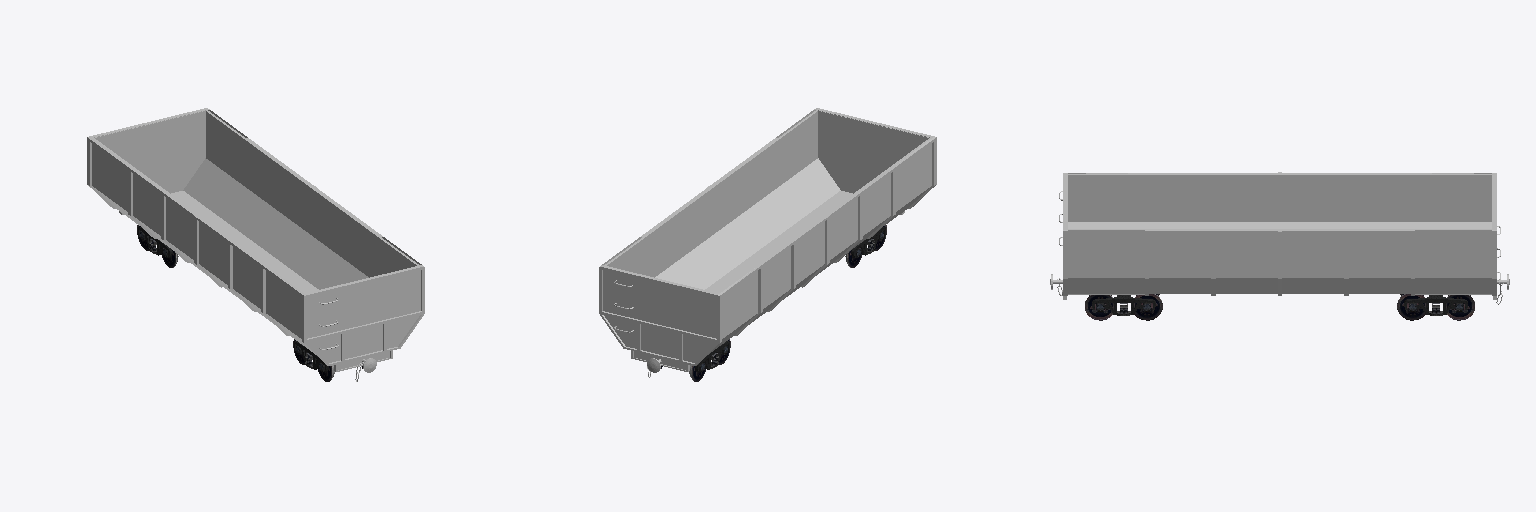
3 views of the same model, side by side, from view 1: azimuth 30°, elevation 25°; view 2: azimuth 150°, elevation 25°; view 3: azimuth 270°, elevation 25° (orthographic).
Visible parts, largest first — view 1: TorpWagonBodyFull, Bogey1, Bogey2; view 2: TorpWagonBodyFull, Bogey2, Bogey1; view 3: TorpWagonBodyFull, Bogey2, Bogey1.
Part boxes in pixels (left/top/right/bottom): TorpWagonBodyFull: left=87, top=108, right=424, bottom=381; Bogey1: left=293, top=339, right=362, bottom=381; Bogey2: left=137, top=225, right=178, bottom=267; TorpWagonBodyFull: left=599, top=108, right=936, bottom=377; Bogey2: left=661, top=339, right=730, bottom=381; Bogey1: left=845, top=225, right=886, bottom=267; TorpWagonBodyFull: left=1050, top=172, right=1509, bottom=304; Bogey2: left=1397, top=294, right=1474, bottom=320; Bogey1: left=1085, top=294, right=1162, bottom=320.
Size of the model in its own units: 2.2 by 1.89 by 7.23.
Materials: 2 (1 with a texture image).